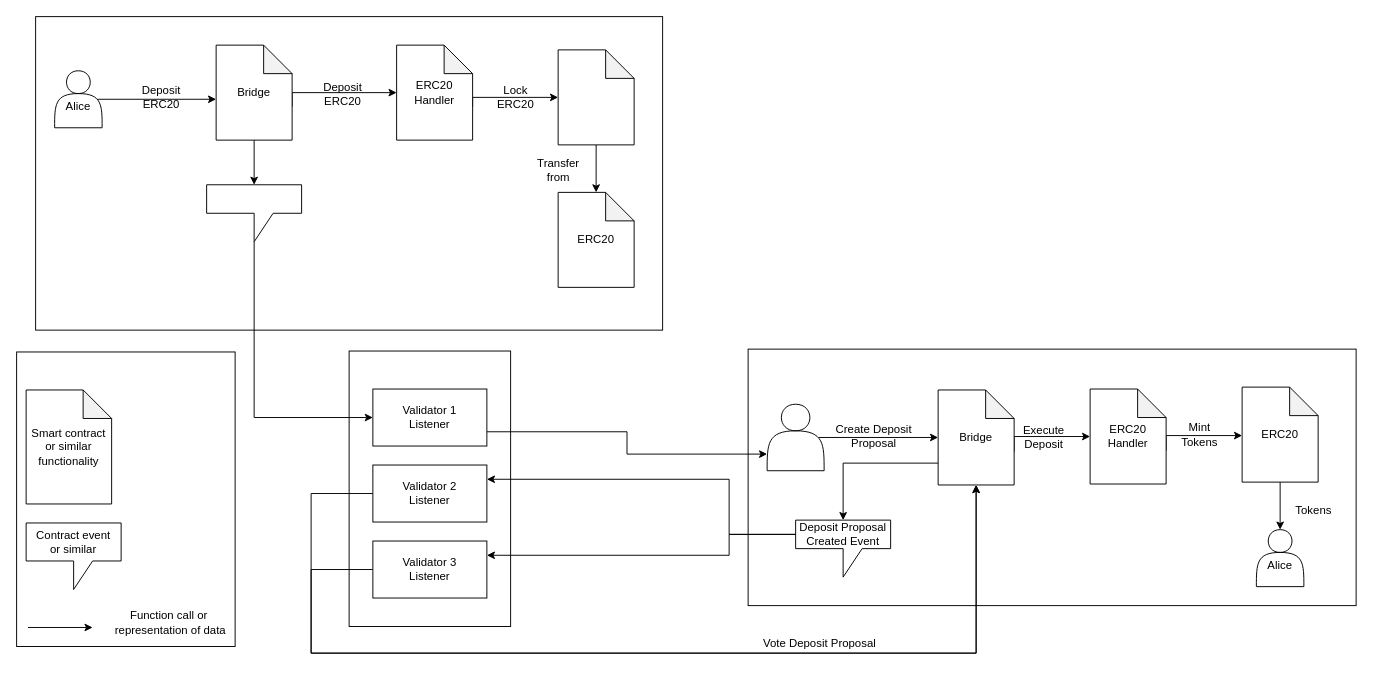
Some shapes in this 1373 by 677 pixel diagram are drawn without their labels. The shapes that lost their labels are listed below. From the top down, each one's box as (x1, y1, x2, y2) in pixels, then its label:
(557, 49, 634, 145): Safe
(35, 16, 663, 330): Blockchain A
(206, 184, 302, 242): ERC20 Deposited Event
(766, 403, 824, 471): Validator
(348, 350, 511, 627): Off Chain
(747, 348, 1356, 606): Blockchain B
(16, 351, 235, 646): Legend
